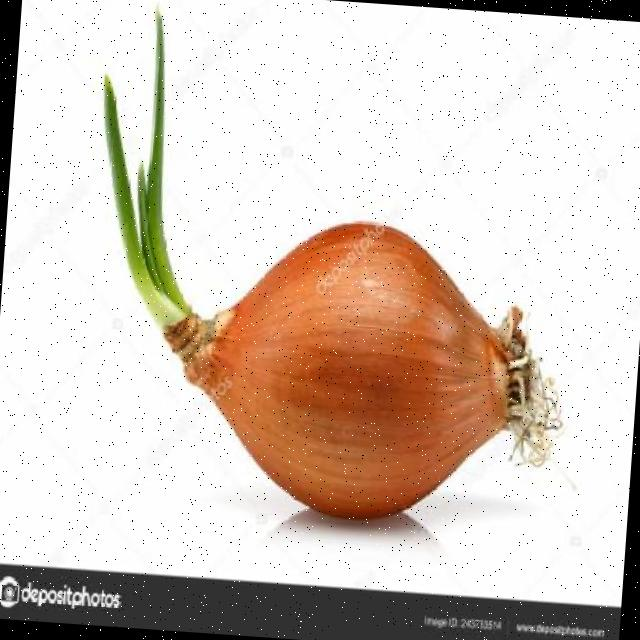Onion: (165, 222, 552, 522)
